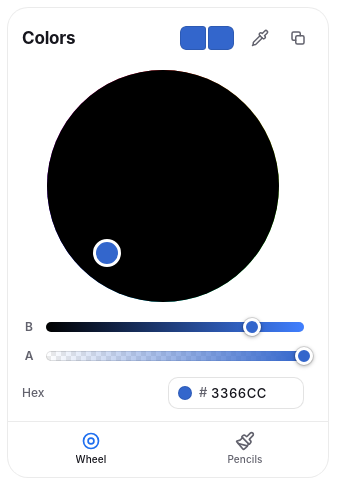
Test: a picker with no props is not half empty › fills the pencils mode from generated defaults
The image size is (346, 495).
Click the tab "Pencils" at coordinates (245, 448), box x1=168 y1=425 x2=322 y2=471
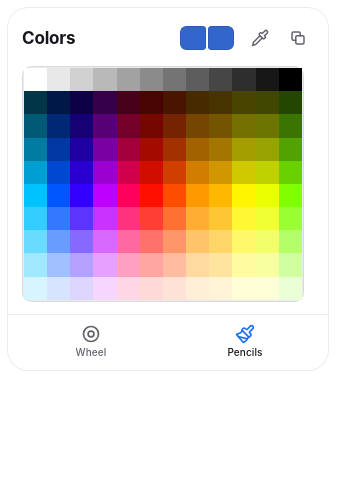
Expected: the number of buttons with class "cp-swatch" is 120
